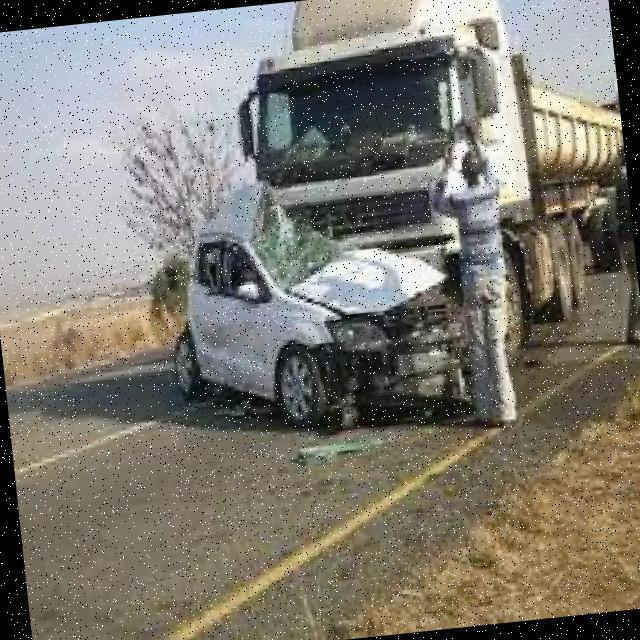accident: (150, 136, 524, 457)
